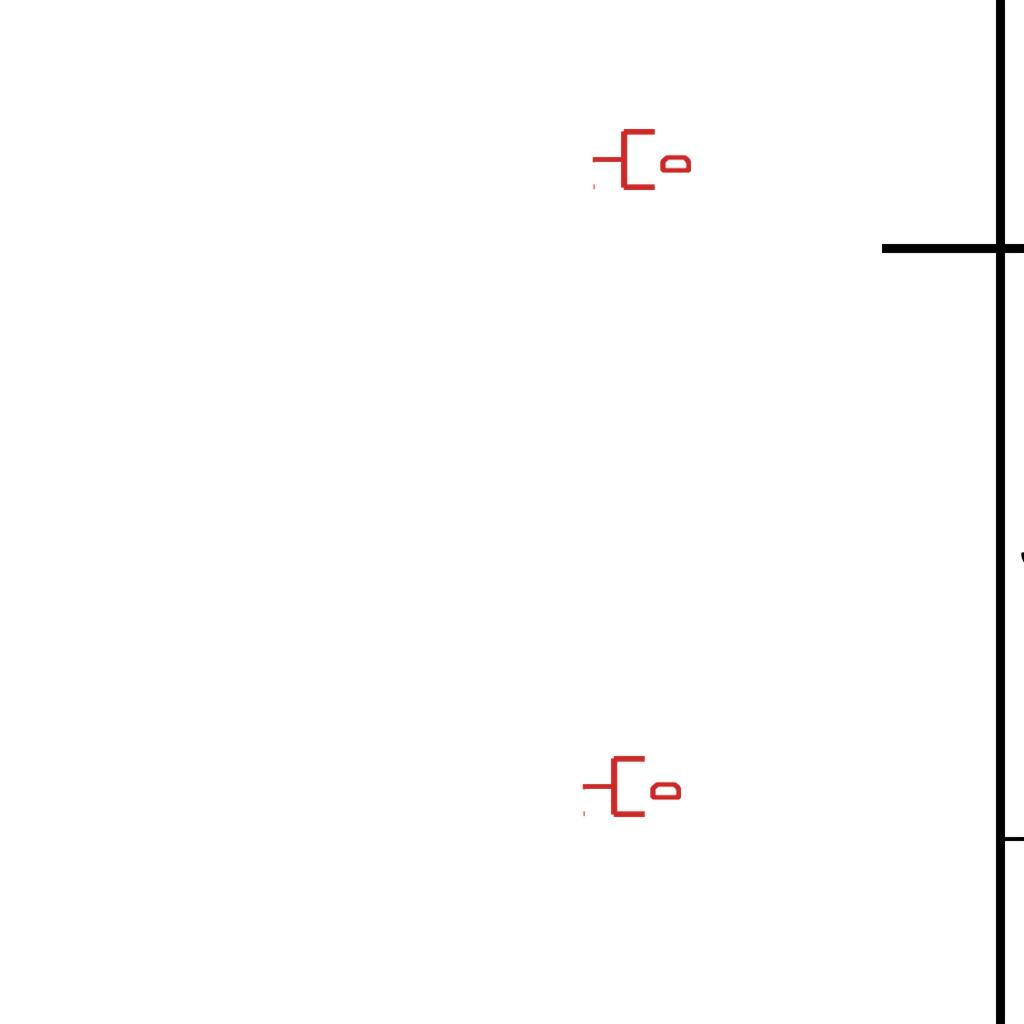Datenanschluss_einfach: (591, 125, 691, 194), (581, 752, 681, 821)
